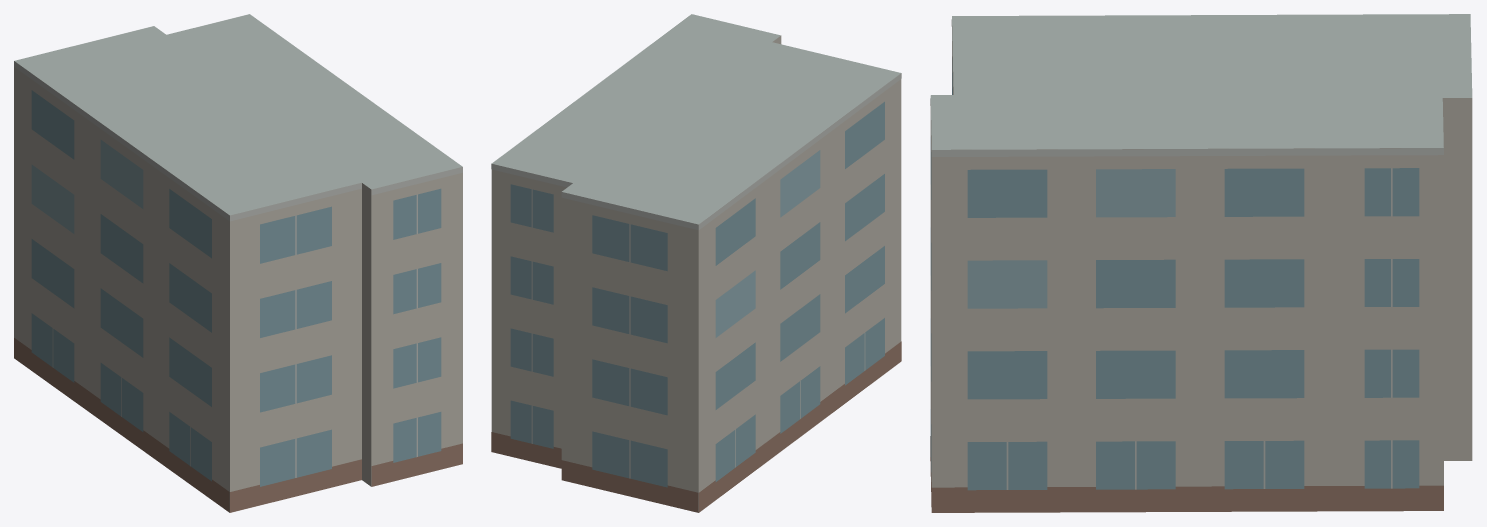
File: survey-upis-32620209.glb
The picture shows the model from 3 angles, left to right: view 1: azimuth 30°, elevation 25°; view 2: azimuth 150°, elevation 25°; view 3: azimuth 270°, elevation 25°; orthographic projection. The views are drawn at different scales.
Parts seen in each view (by area): view 1: survey-upis-32620209.tmp; view 2: survey-upis-32620209.tmp; view 3: survey-upis-32620209.tmp.
Part boxes in pixels (left/top/right/bottom): survey-upis-32620209.tmp: left=14, top=14, right=462, bottom=512; survey-upis-32620209.tmp: left=491, top=14, right=901, bottom=512; survey-upis-32620209.tmp: left=930, top=14, right=1472, bottom=512.
Size of the model in its own units: 9.8 by 12.2 by 16.51.
